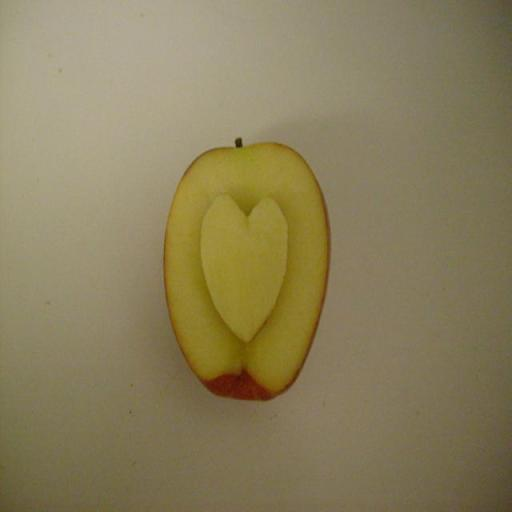fruit: (163, 143, 326, 397)
